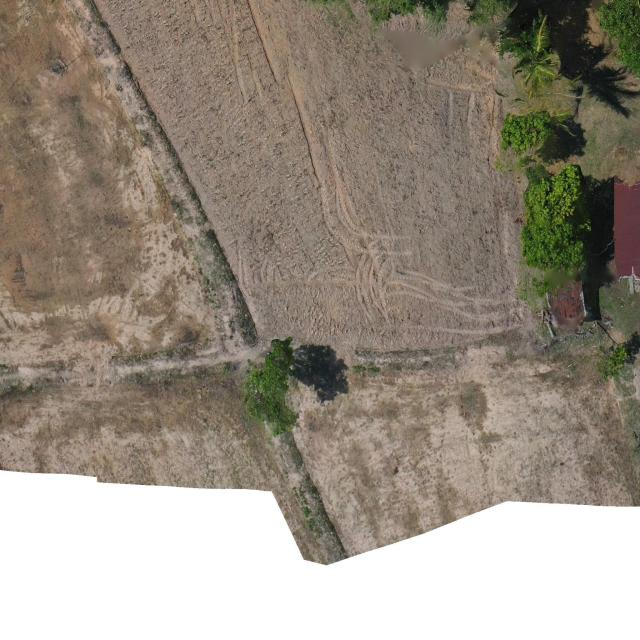Tree: (519, 162, 593, 275), (245, 334, 298, 439), (497, 13, 558, 91), (500, 109, 552, 156)
